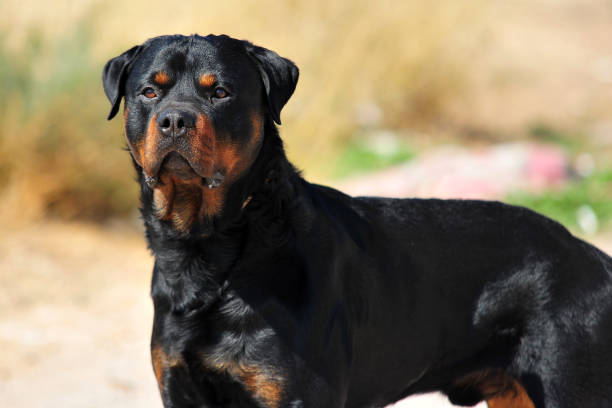dog: (90, 27, 308, 194)
